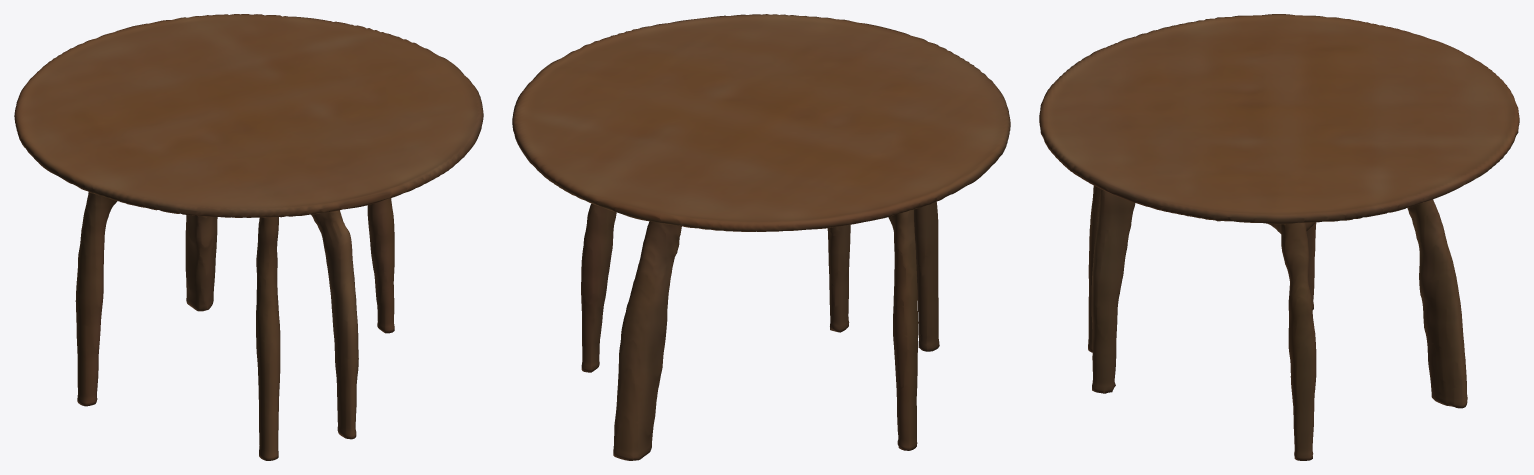
Rendered from A table with round shaped plank and has five legs.glb.
3 renders of one model, left to right at view 1: azimuth 30°, elevation 25°; view 2: azimuth 150°, elevation 25°; view 3: azimuth 270°, elevation 25°, orthographic. The views are drawn at different scales.
Visible parts, largest first — view 1: A table with round shaped plank and has five legs; view 2: A table with round shaped plank and has five legs; view 3: A table with round shaped plank and has five legs.
Part boxes in pixels (x1,y1,x2,y2): A table with round shaped plank and has five legs: (14,14,483,460); A table with round shaped plank and has five legs: (512,14,1010,460); A table with round shaped plank and has five legs: (1039,14,1519,460).
Bounding box in the file's own units: 1.98 × 1.23 × 1.98.
